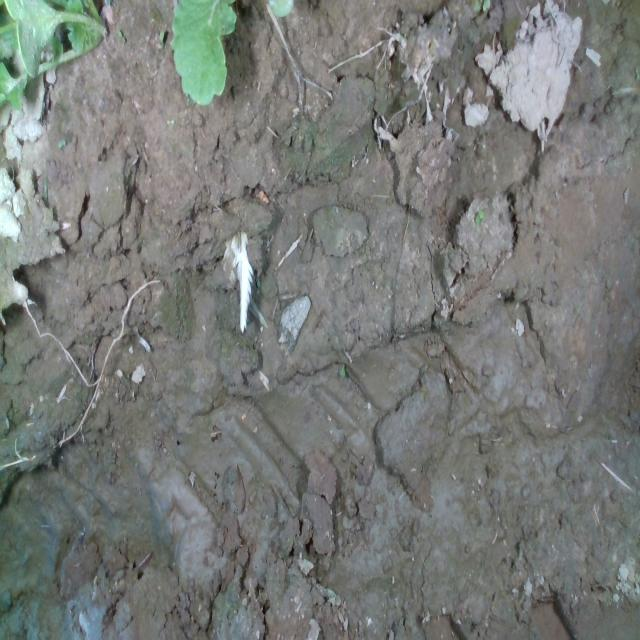weed: (473, 208, 483, 226), (58, 137, 66, 147)
